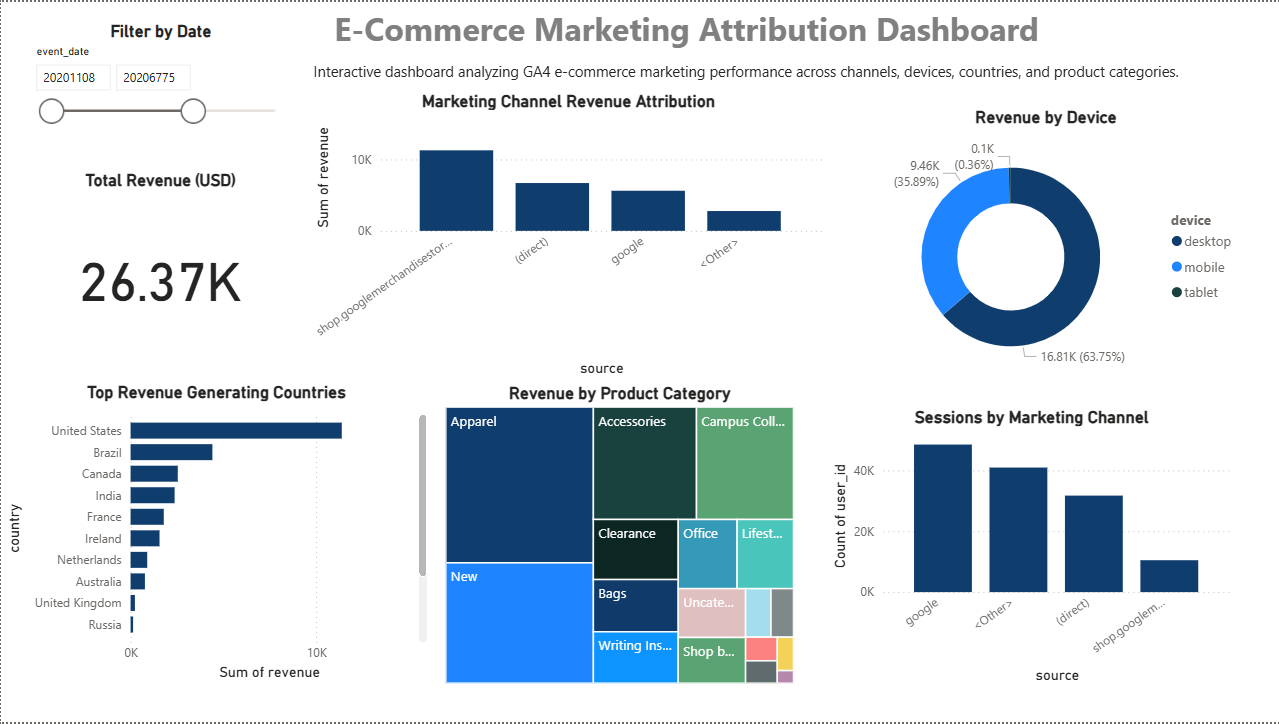

The dashboard page shown, as its layout file describes it:
{"tool":"powerbi","page":{"name":"Page 1","canvas":[1280,720],"ordinal":0},"visuals":[{"type":"textbox","box":[215.6,0,941.1,53.3],"z":0},{"type":"columnChart","title":"Marketing Channel Revenue Attribution","fields":{"Y":["Sum(ga4_ecommerce_data.revenue)"],"Category":["ga4_ecommerce_data.source"]},"box":[308.9,88.9,517.8,291.1],"z":1000},{"type":"textbox","box":[0,140,300,165],"z":2000},{"type":"donutChart","title":"Revenue by Device","fields":{"Category":["ga4_ecommerce_data.device"],"Y":["Sum(ga4_ecommerce_data.revenue)"]},"box":[844.4,105.6,400,281.1],"z":3000},{"type":"clusteredBarChart","title":"Top Revenue Generating Countries","fields":{"Category":["ga4_ecommerce_data.country"],"Y":["Sum(ga4_ecommerce_data.revenue)"]},"box":[0,380,431.1,303.3],"z":5000},{"type":"treemap","title":"Revenue by Product Category","fields":{"Group":["ga4_ecommerce_data.product_category"],"Values":["Sum(ga4_ecommerce_data.revenue)"]},"box":[439.7,380.8,357.7,305.1],"z":6000},{"type":"card","title":"Total Revenue (USD)","fields":{"Values":["Sum(ga4_ecommerce_data.revenue)"]},"box":[31.2,167.5,256.2,192.5],"z":8500},{"type":"textbox","box":[307.8,53.3,881.1,35.6],"z":8501},{"type":"clusteredColumnChart","title":"Sessions by Marketing Channel","fields":{"Category":["ga4_ecommerce_data.source"],"Y":["CountNonNull(ga4_ecommerce_data.user_id)"]},"box":[826.7,405.6,408.9,281.1],"z":8502},{"type":"slicer","title":"Filter by Date","fields":{"Values":["ga4_ecommerce_data.event_date"]},"box":[22.5,18.8,275,105],"z":8503}]}

Visuals, with their boxes in screenshot pixels (x1, y1, x2, y2), scaled from the page's 1280x720 canvas onto the 1279x724 screenshot:
textbox: (215, 0, 1156, 54)
"Marketing Channel Revenue Attribution" columnChart: (309, 89, 826, 382)
textbox: (0, 141, 300, 307)
"Revenue by Device" donutChart: (844, 106, 1243, 389)
"Top Revenue Generating Countries" clusteredBarChart: (0, 382, 431, 687)
"Revenue by Product Category" treemap: (439, 383, 797, 690)
"Total Revenue (USD)" card: (31, 168, 287, 362)
textbox: (308, 54, 1188, 89)
"Sessions by Marketing Channel" clusteredColumnChart: (826, 408, 1235, 691)
"Filter by Date" slicer: (22, 19, 297, 124)
